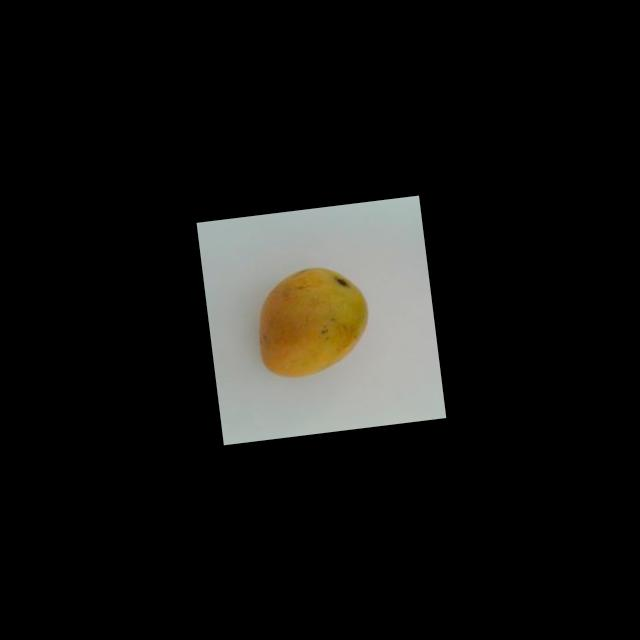Mango: (250, 260, 375, 380)
